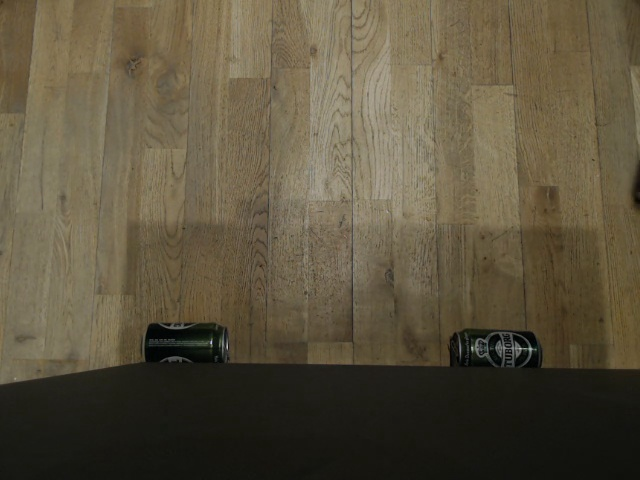beer: (449, 327, 545, 366), (140, 321, 227, 362)
